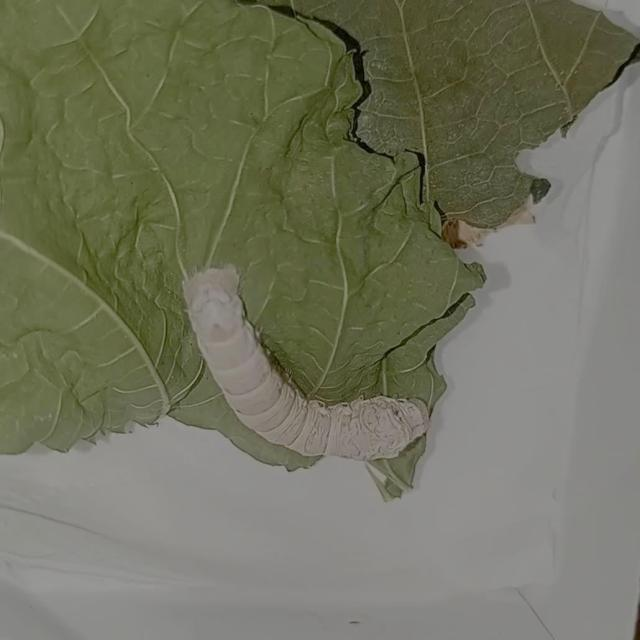Healthy: (170, 260, 438, 471)
